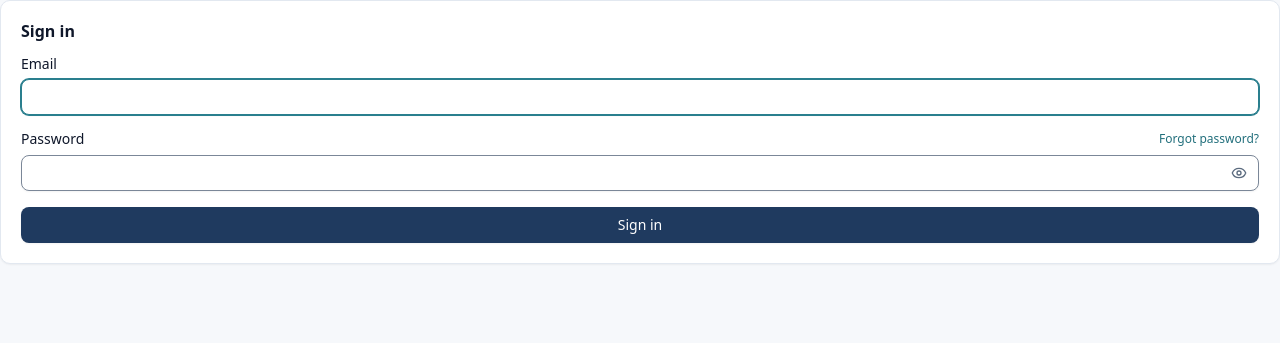
LoginForm › drops the lockout sentence in demo mode
Type "demo.admin@example.com" into the field labelled "Email".
click(640, 97); type("demo.admin@example.com")  # box [21,79,1259,115]
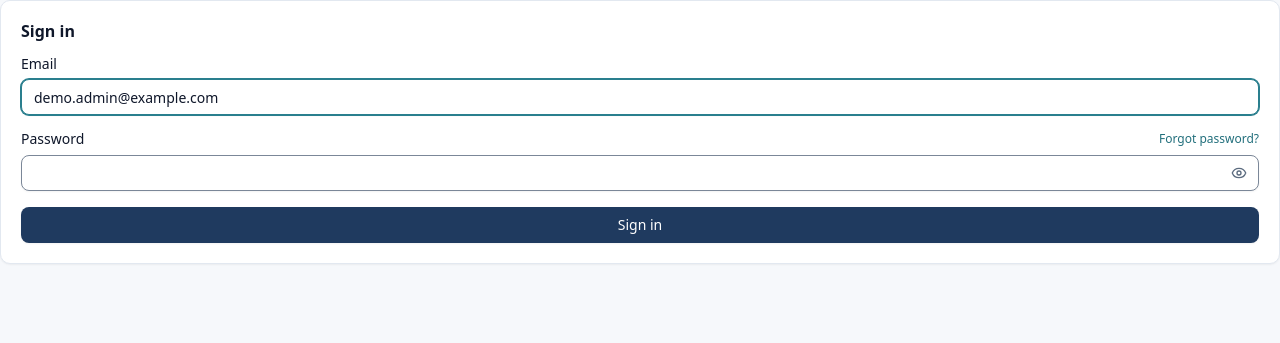
Type "wrong password" into the password field labelled "Password".
click(640, 173); type("wrong password")  # box [21,155,1259,191]
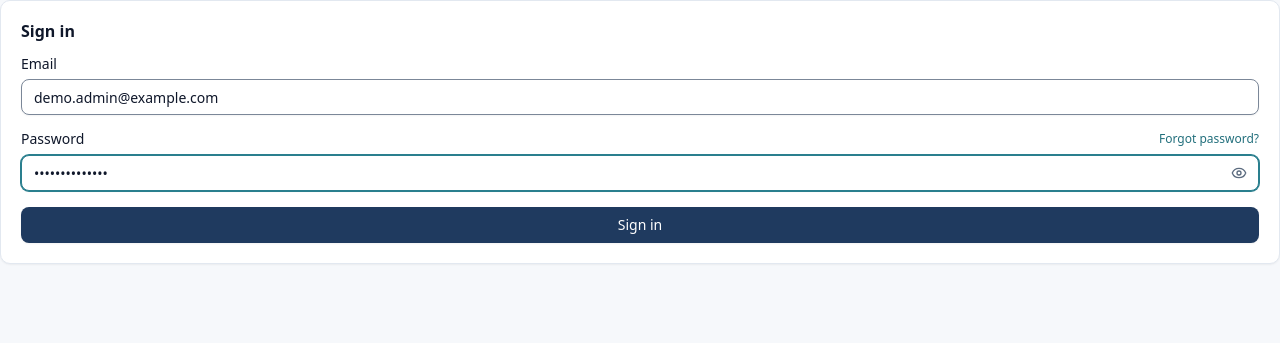
Click the button "Sign in".
click(640, 225)  # box [21,207,1259,243]
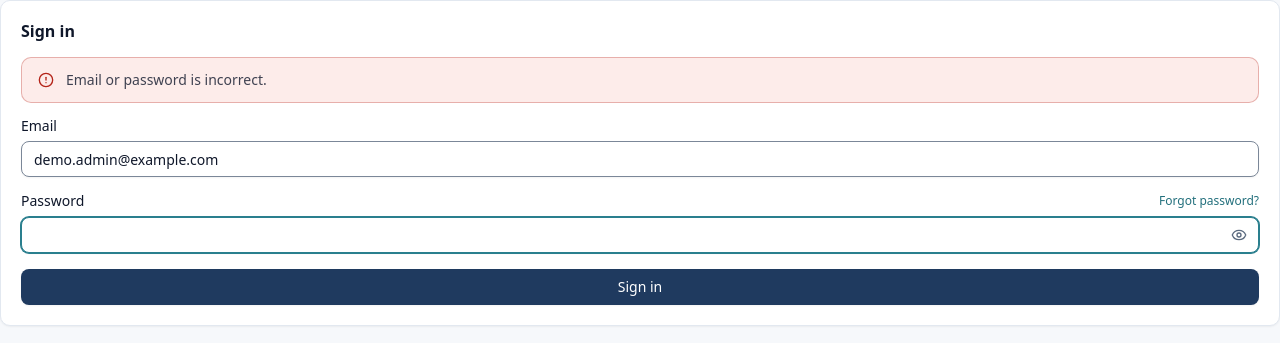
Expected: the message does not show "locked", [21,57,1259,103]
Expected: the message reads "Email or password is incorrect.", [66,70,267,89]
